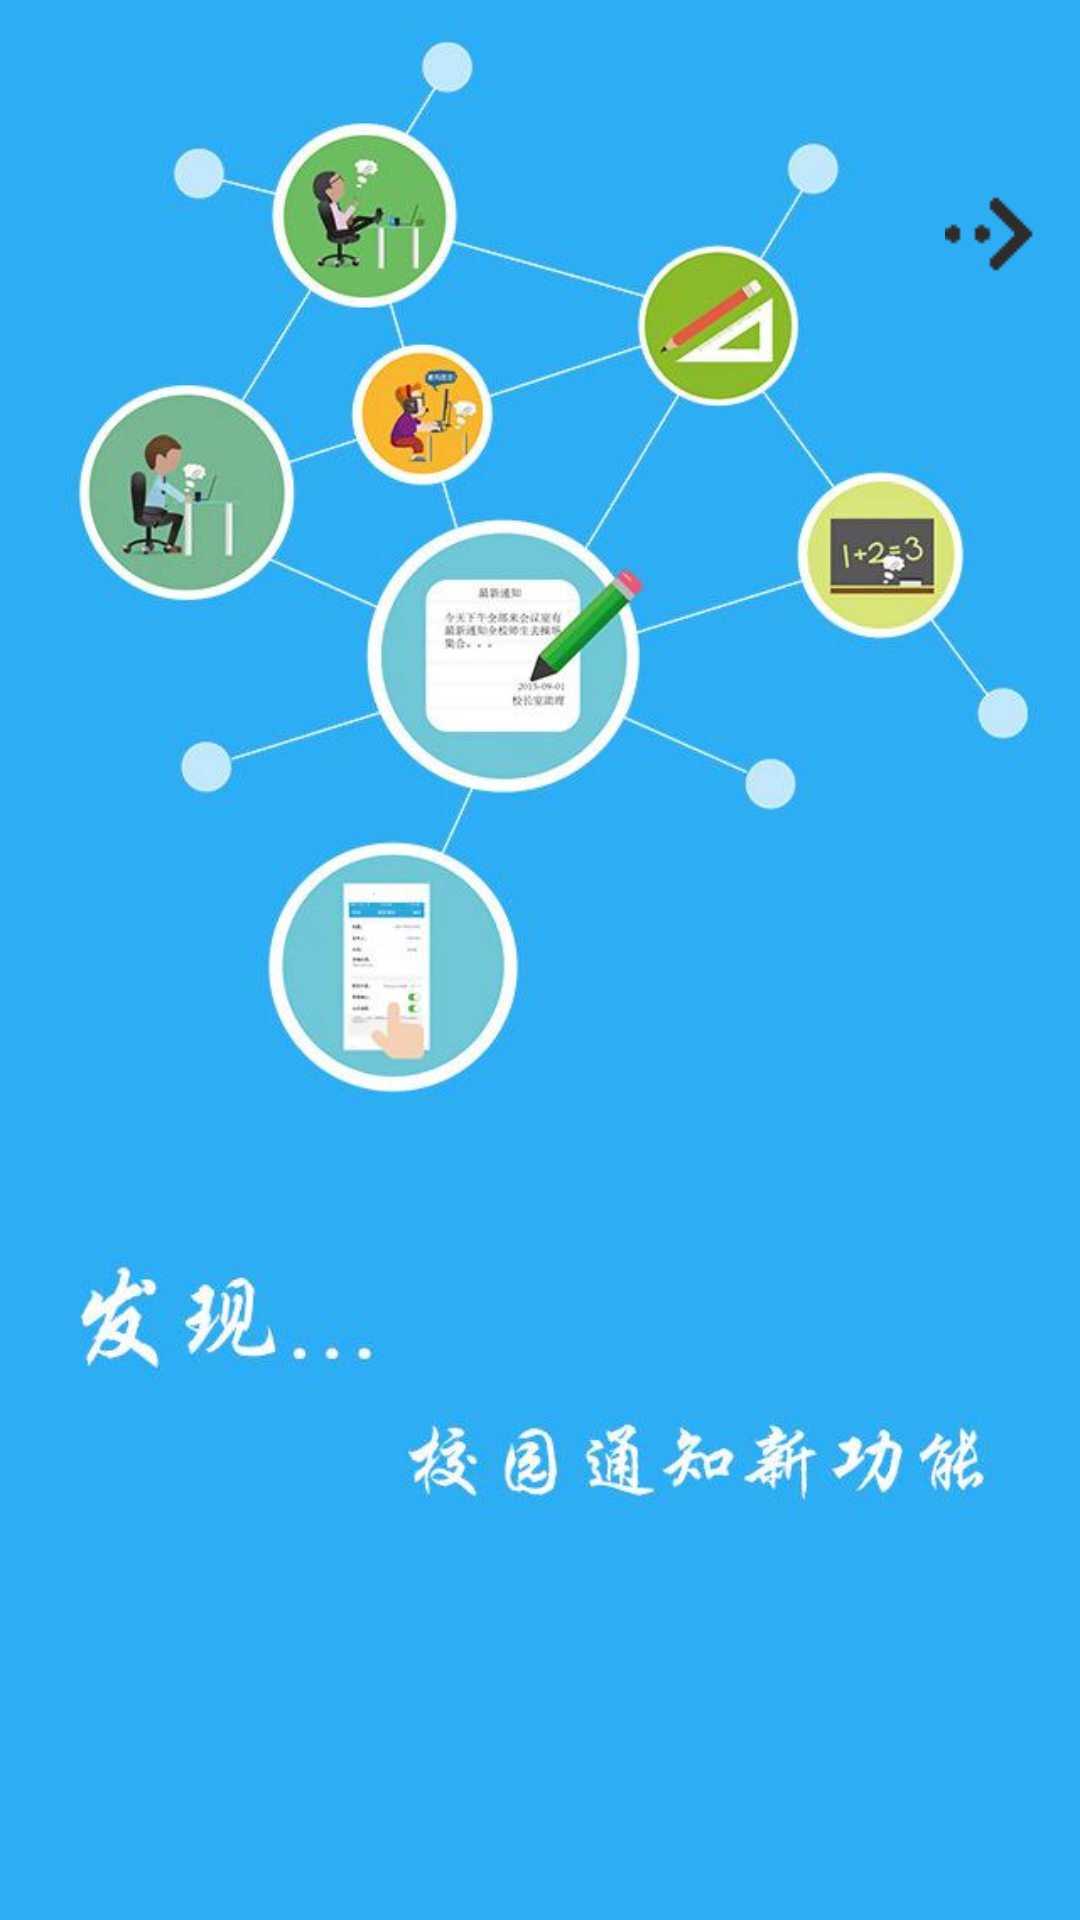

Point at icon controls on the screen. Image size 1080px x 1920px, points as (x=x, y=y).
jump: (x=989, y=234)
